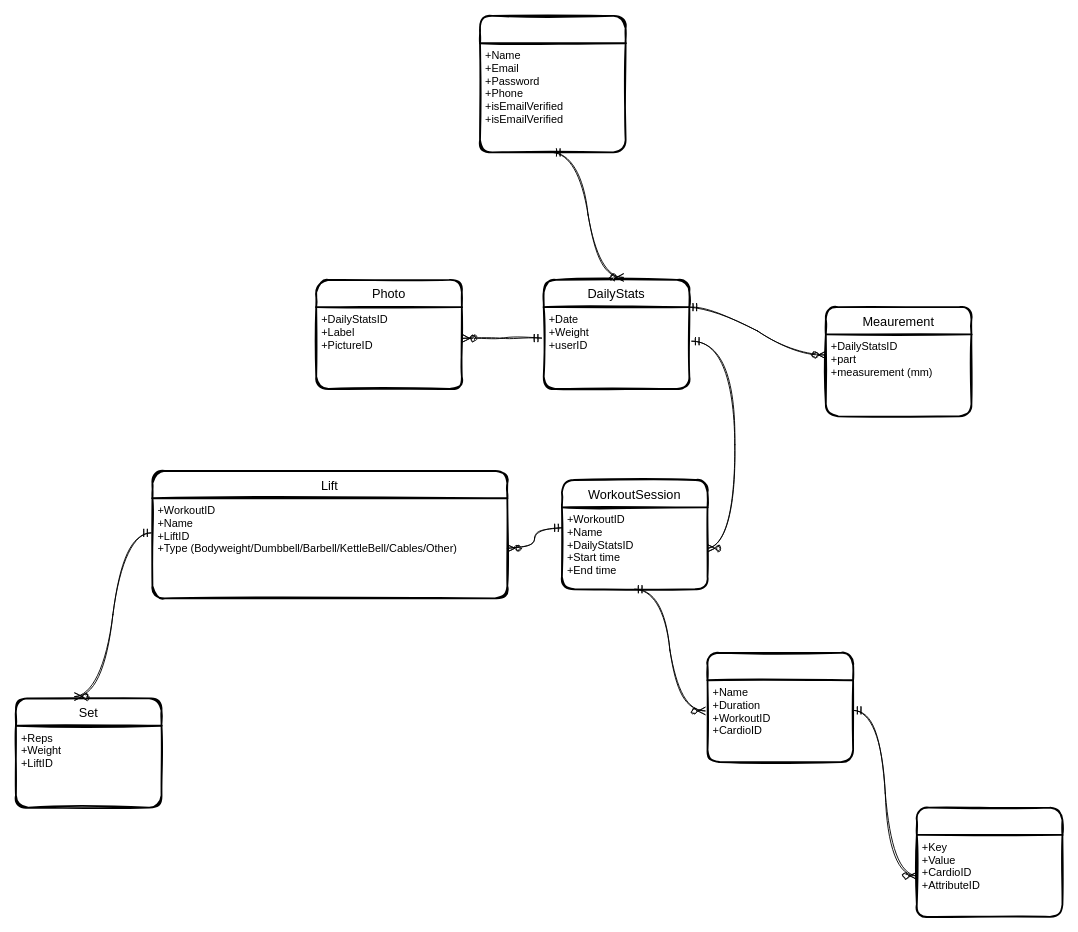
Image size: 1078x932. Some labels were removed from this diagram. Here are the shapes that lost their labels. From the top down, the box of each, then its label:
(479, 15, 626, 153): User
(706, 652, 854, 763): CardioSession
(915, 806, 1063, 917): Optional Attribute
